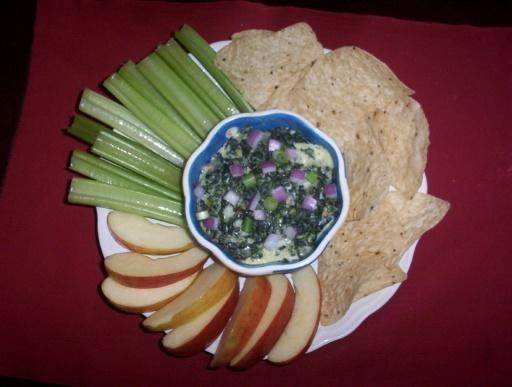background: (52, 12, 360, 223)
